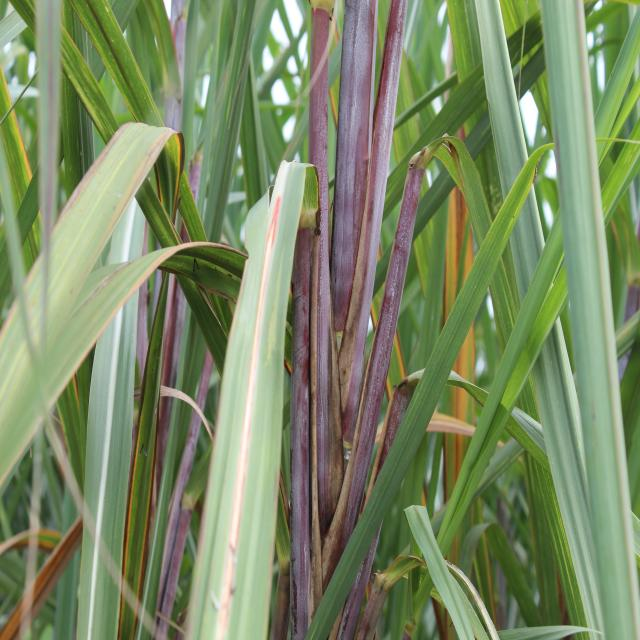Sugarcane: (338, 146, 554, 640), (541, 0, 637, 640), (449, 6, 565, 472), (229, 166, 309, 640), (80, 221, 136, 634)
